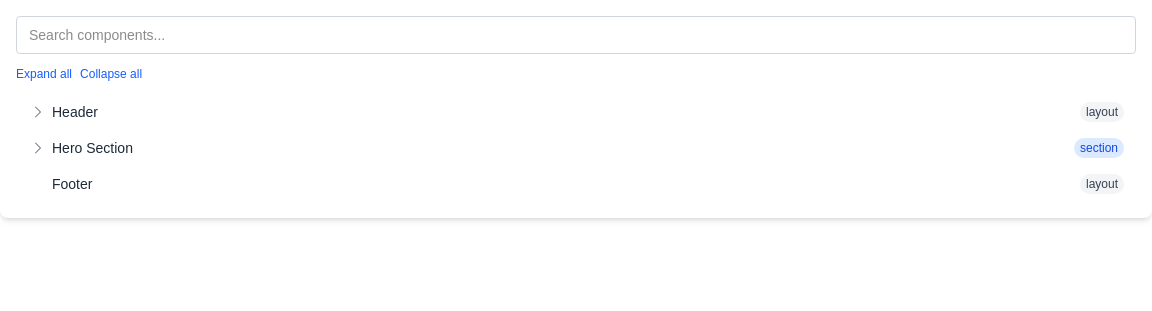
Test: ComponentTree › collapses expanded node on second chevron click
This screenshot has width=1152, height=311.
What coordinates should you click on to do the following:
click the 1st button named "toggle"
I would click on:
 (38, 112)
Its box is x1=28 y1=102 x2=48 y2=122.
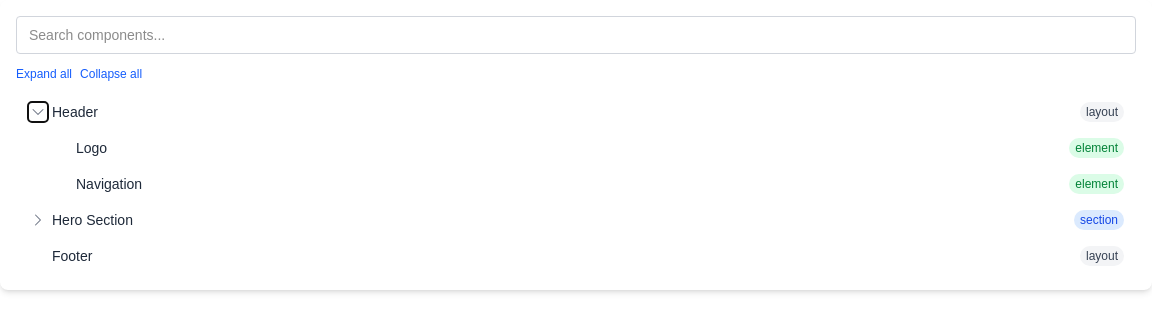
Result: the button "Logo" is shown at x1=76 y1=138 x2=1069 y2=158
What coordinates should you click on to do the following:
click the 1st button named "toggle"
I would click on:
 (38, 112)
Its box is x1=28 y1=102 x2=48 y2=122.
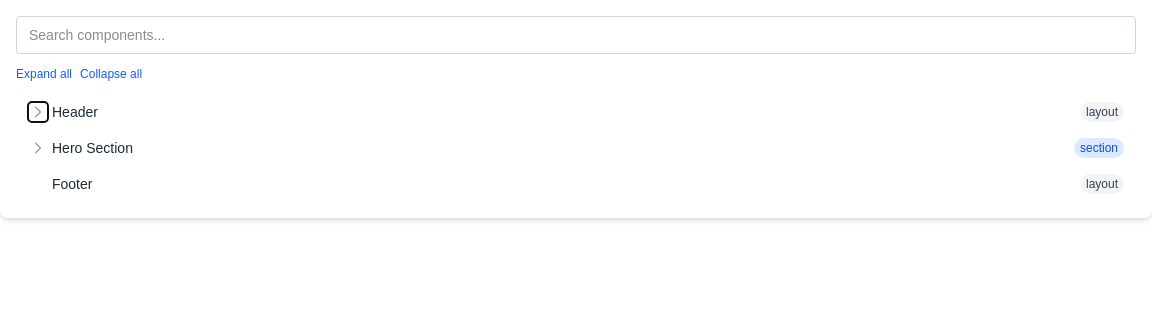
Result: the button "Logo" is gone
